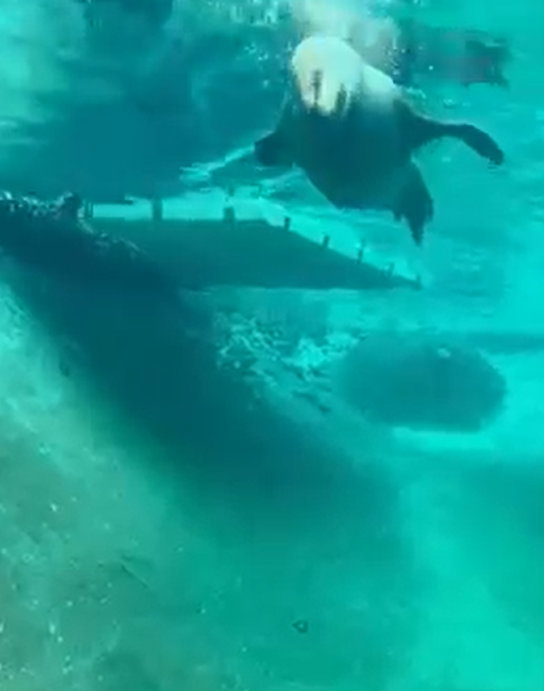seal: (253, 33, 505, 249)
